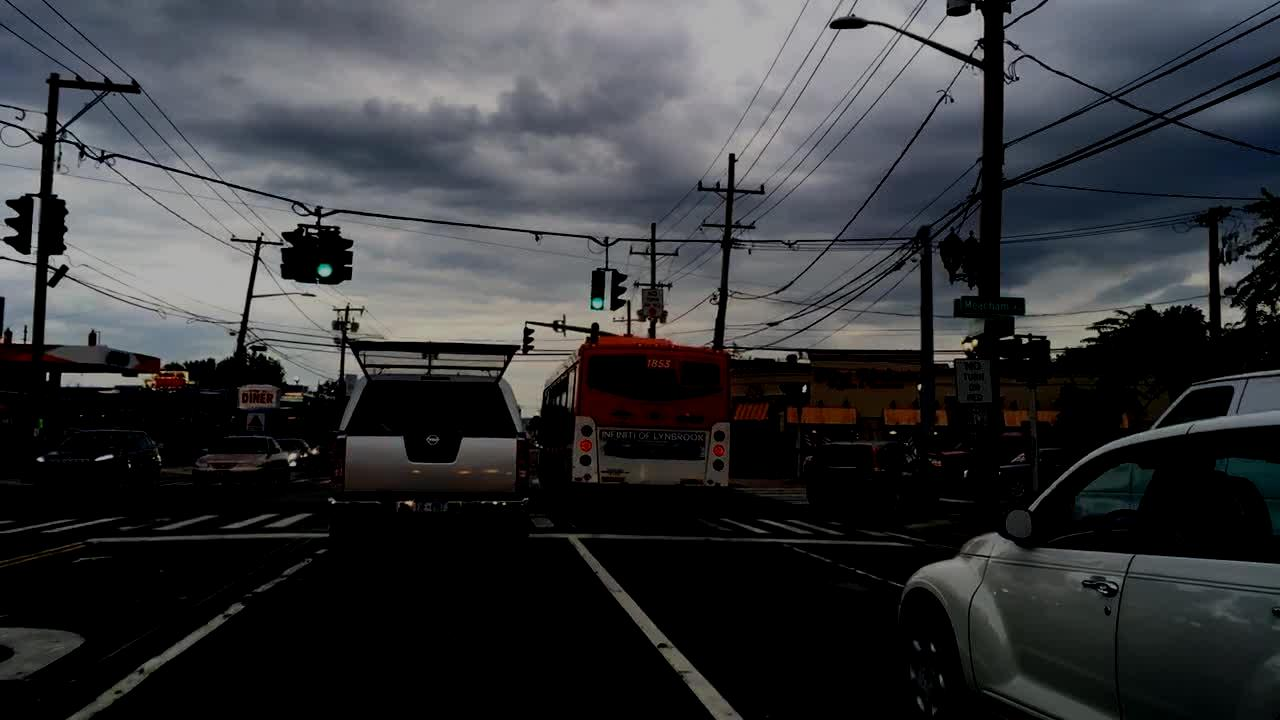Nissan: (423, 431, 442, 448)
